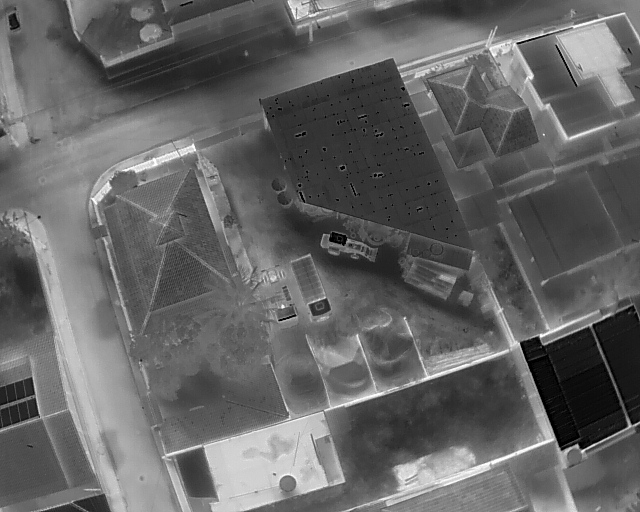car: (4, 3, 25, 40)
person: (556, 7, 579, 23)
truck: (275, 273, 347, 302), (247, 280, 310, 307), (317, 234, 381, 258)
